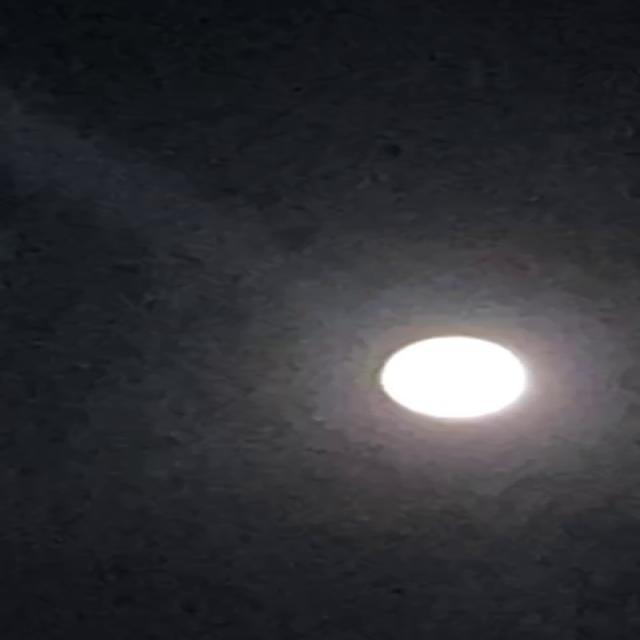moon: (359, 330, 561, 432)
